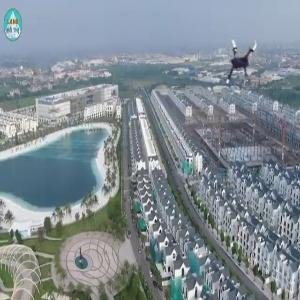drone: (211, 32, 266, 87)
